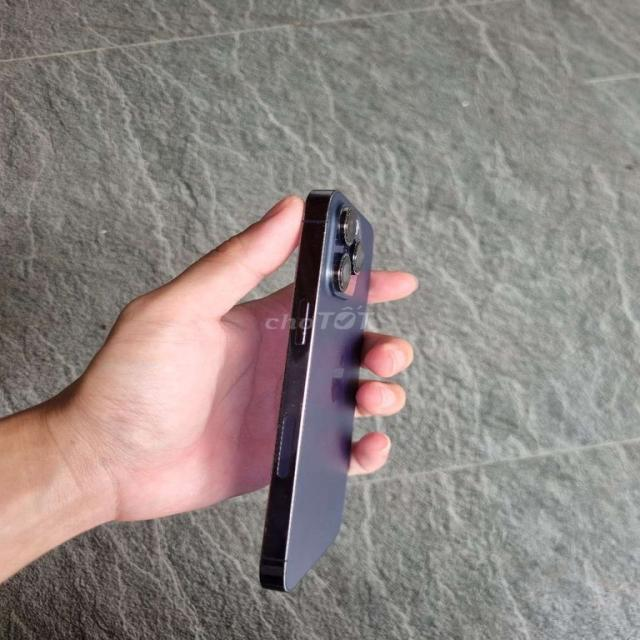gen_14: (244, 177, 378, 601)
